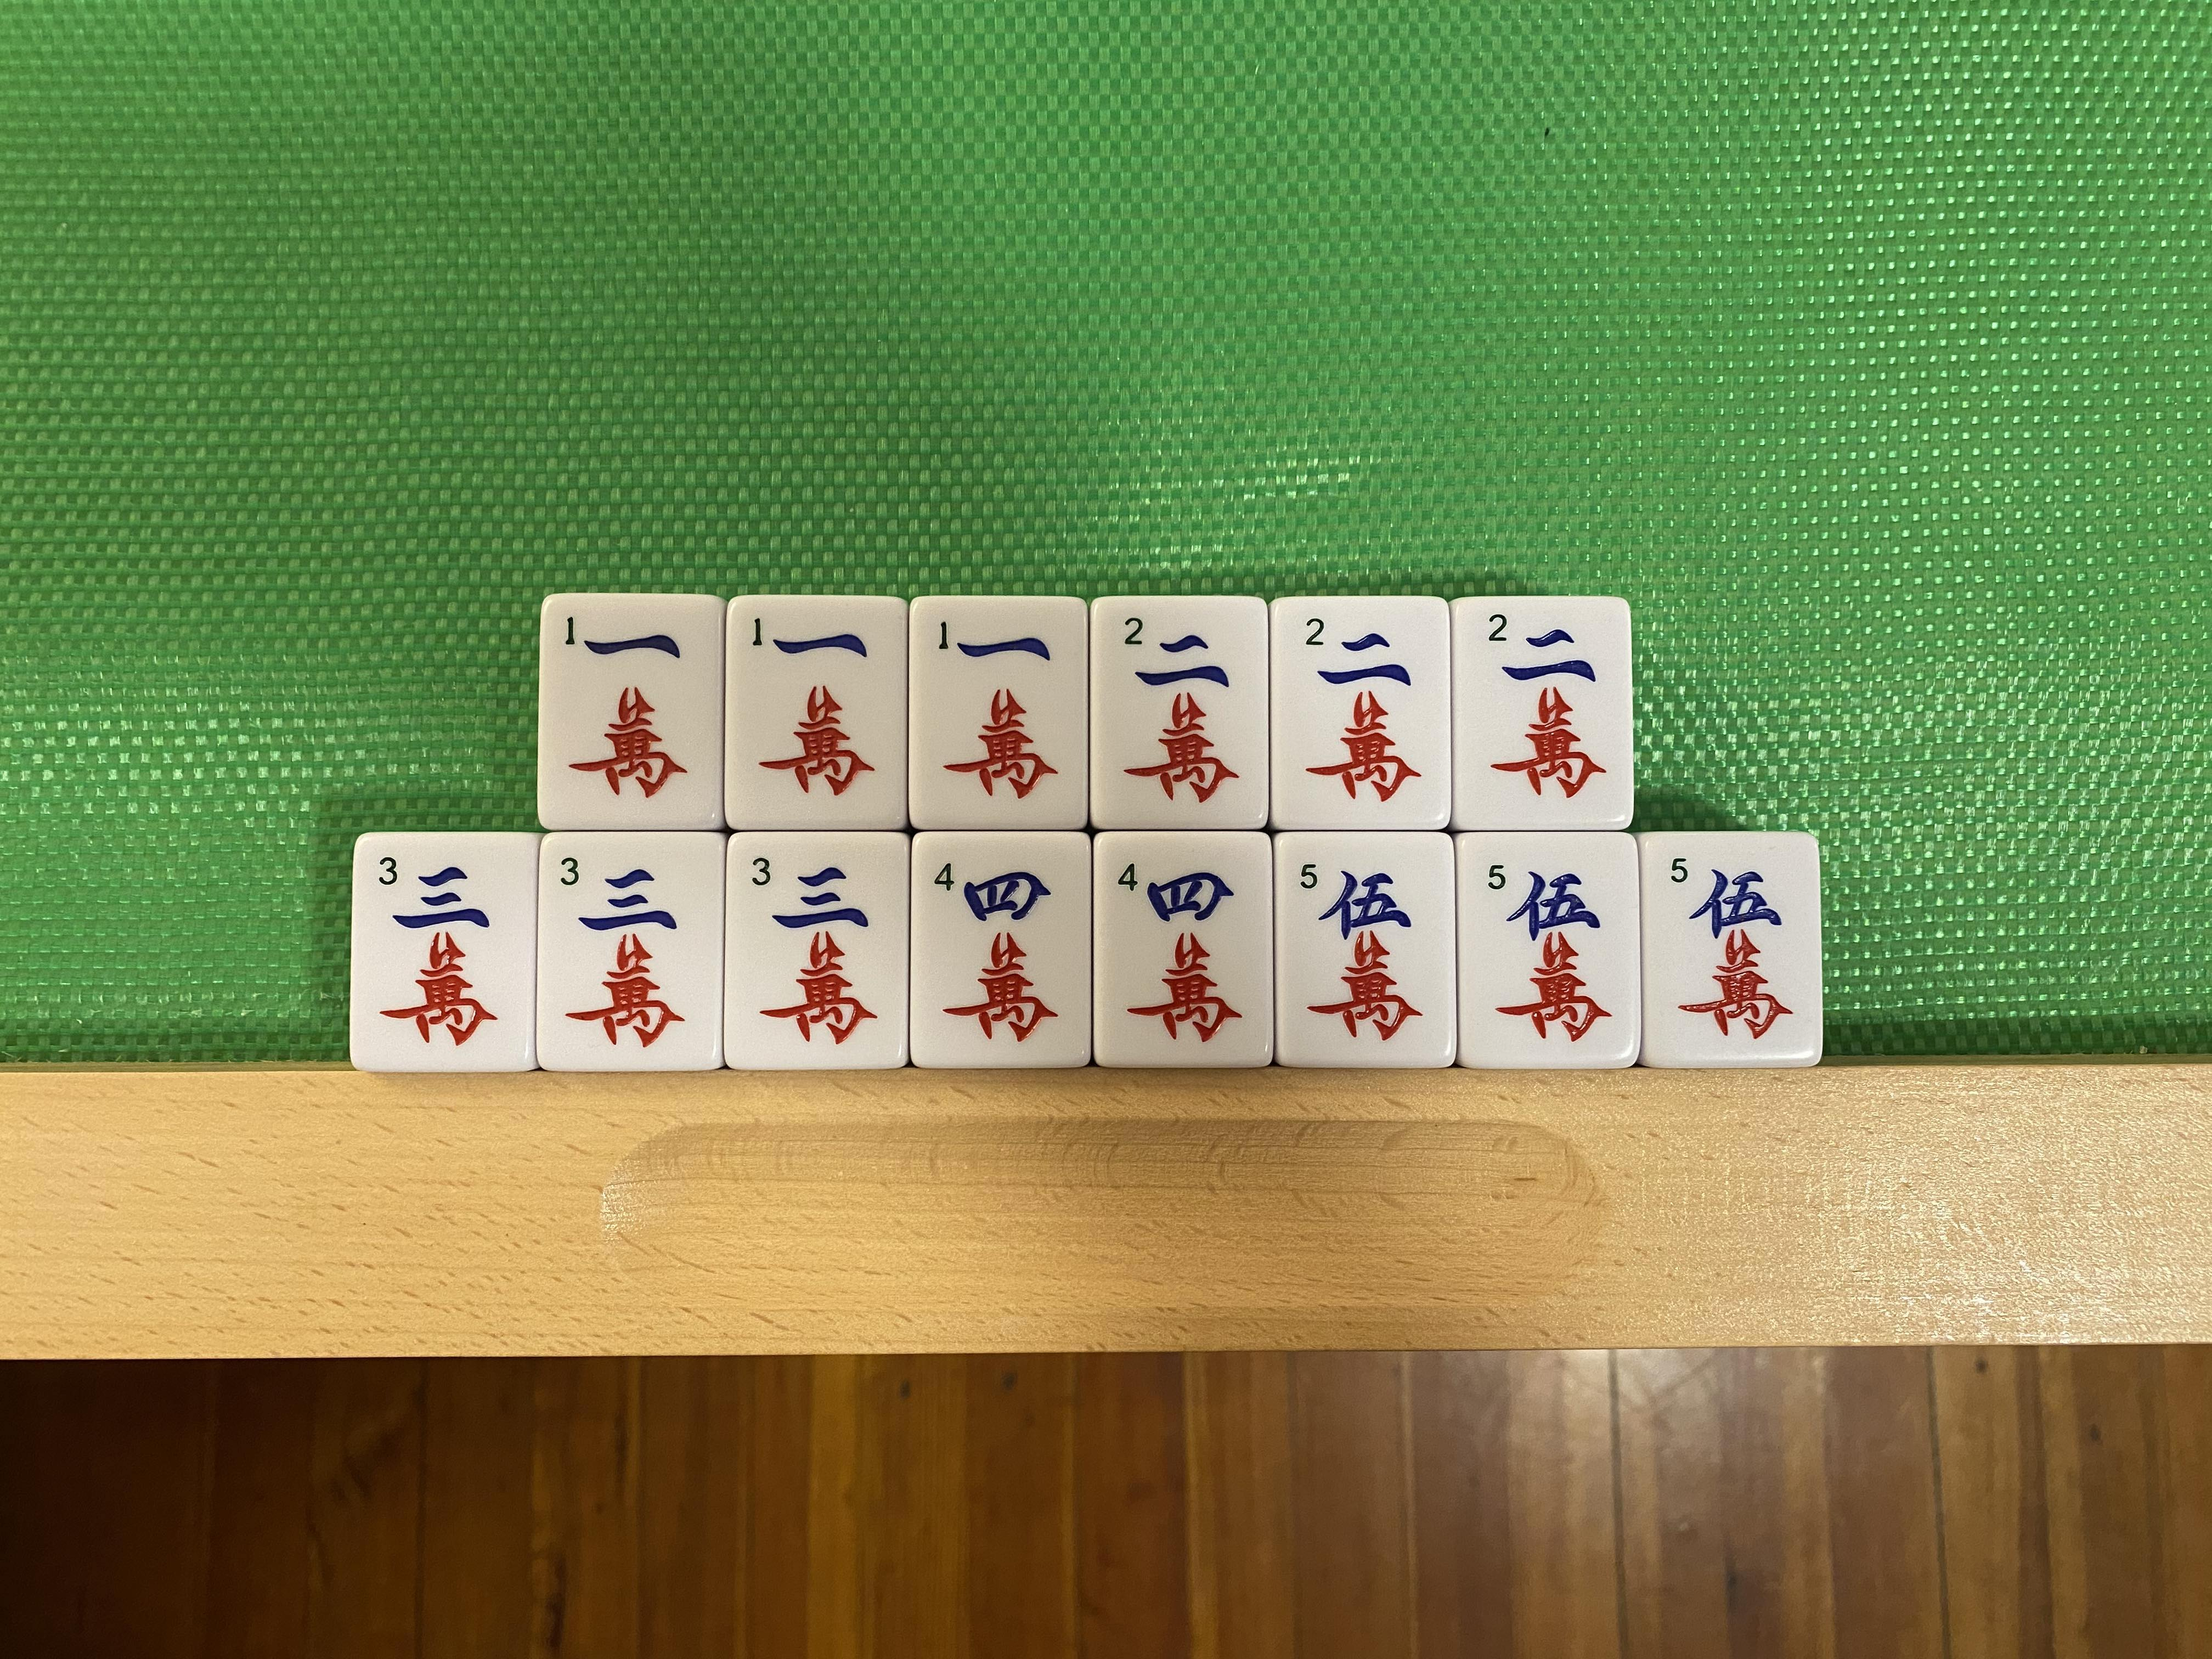character-five: (1461, 835, 1637, 1065), (1646, 835, 1818, 1068), (1280, 835, 1454, 1063)
character-four: (911, 831, 1092, 1068), (1097, 835, 1273, 1065)
character-one: (726, 599, 907, 828), (543, 598, 718, 830), (911, 601, 1089, 828)
character-three: (540, 835, 725, 1070), (352, 833, 536, 1068), (726, 835, 909, 1068)
character-two: (1273, 598, 1449, 828), (1092, 599, 1268, 830), (1456, 598, 1629, 830)
